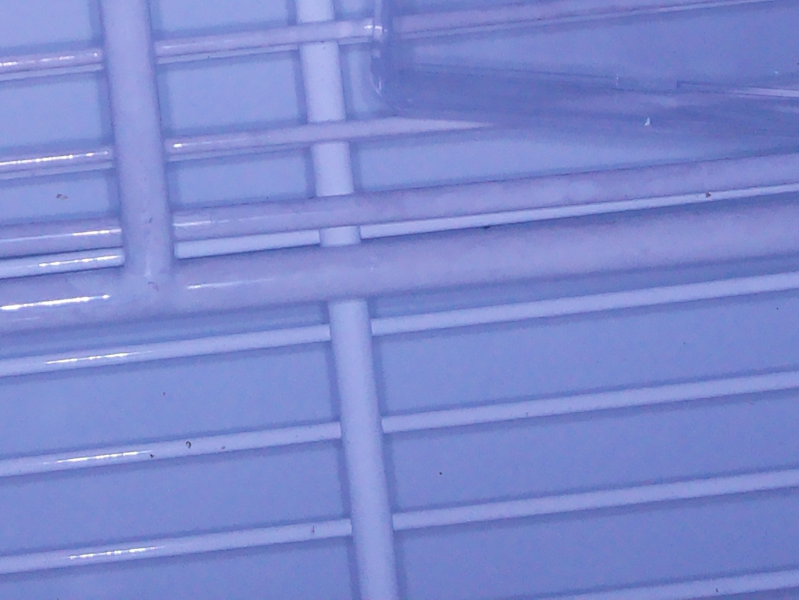plate: (367, 1, 799, 140)
